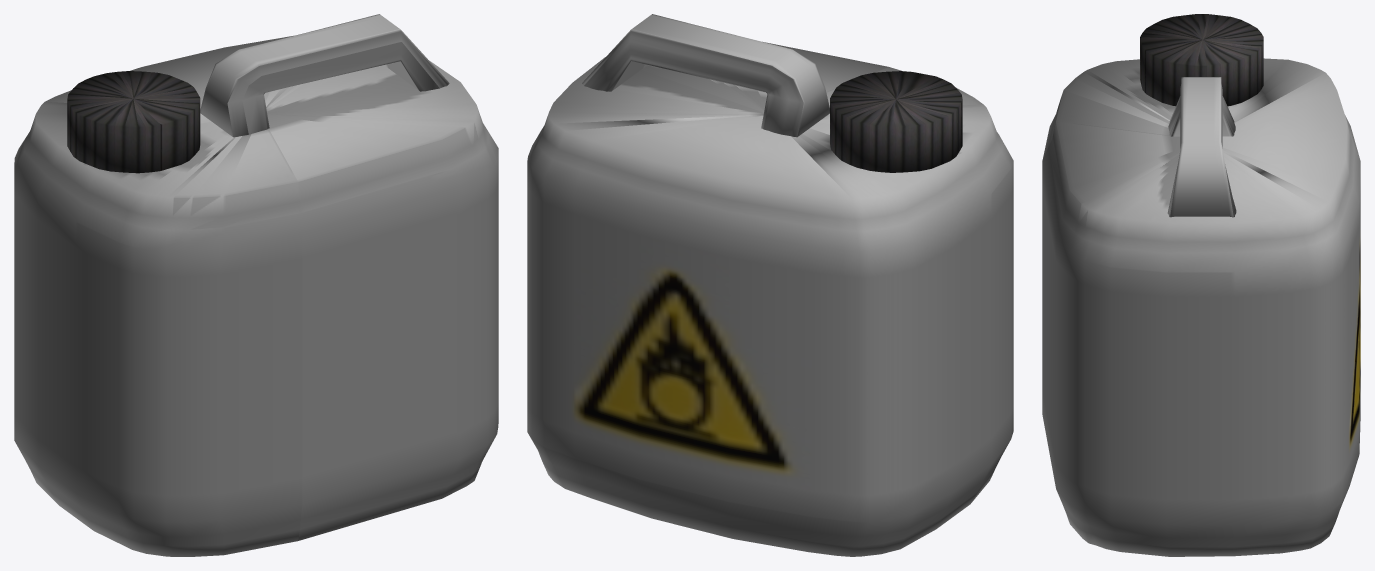
The model's file is Canister.DAE.
The picture shows the model from 3 angles, left to right: view 1: azimuth 30°, elevation 25°; view 2: azimuth 150°, elevation 25°; view 3: azimuth 270°, elevation 25°; orthographic projection. The views are drawn at different scales.
Visible parts, largest first — view 1: Canister; view 2: Canister; view 3: Canister.
Boxes of the visible parts, x1,y1,x2,y2 form: Canister: (14, 14, 498, 556); Canister: (527, 14, 1013, 556); Canister: (1042, 14, 1360, 556).
Bounding box in the file's own units: 5.46 × 4.02 × 5.46.
